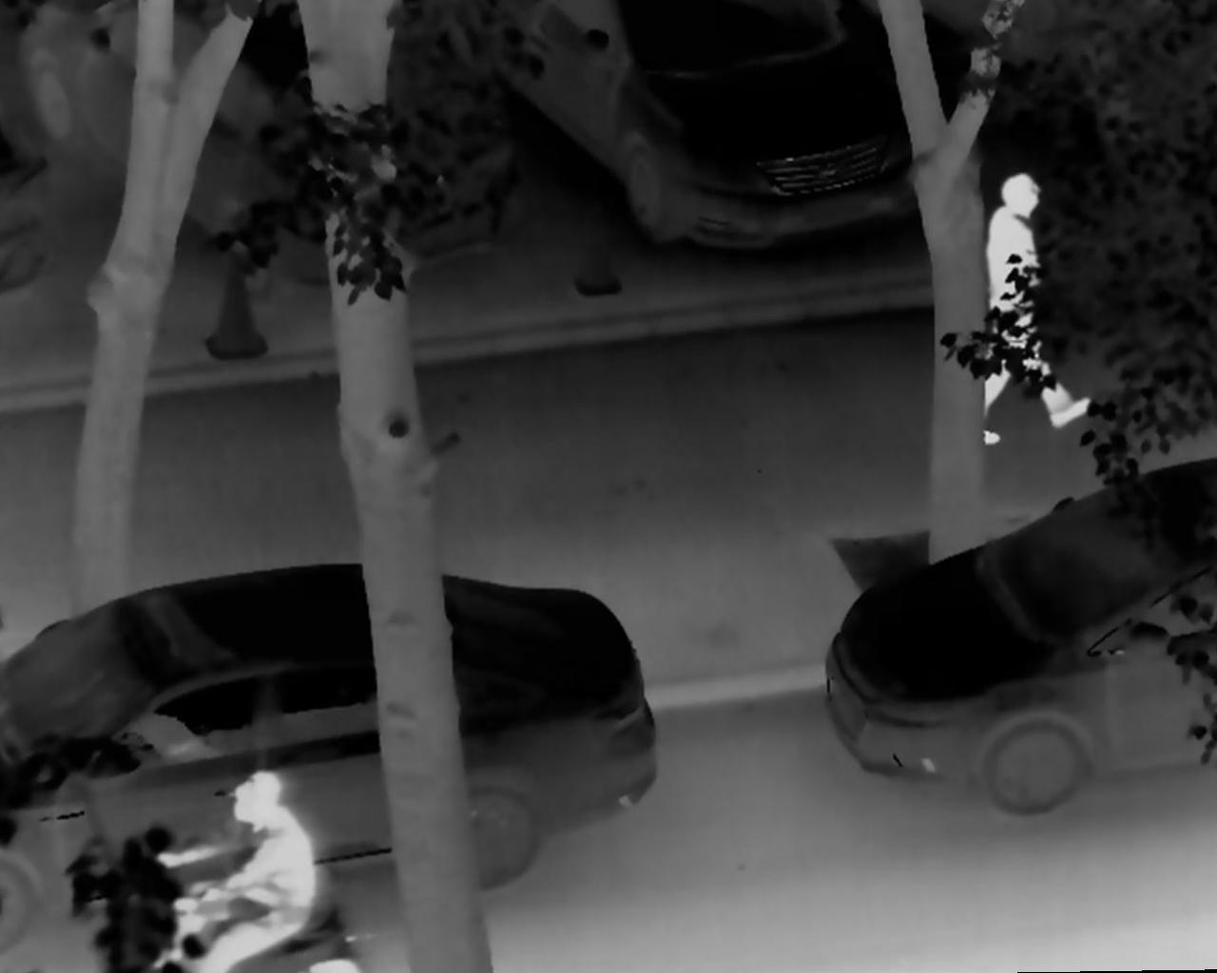person: (121, 766, 319, 973), (970, 171, 1093, 453)
